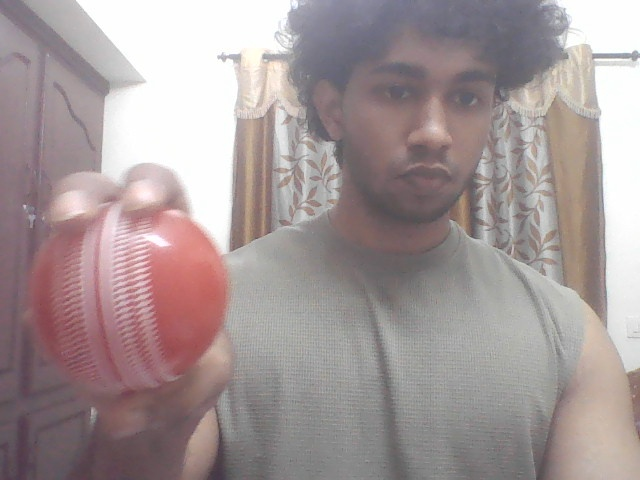cricket_ball: (18, 202, 235, 400)
